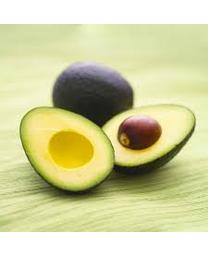avocado: (18, 107, 116, 196), (100, 104, 197, 175)
